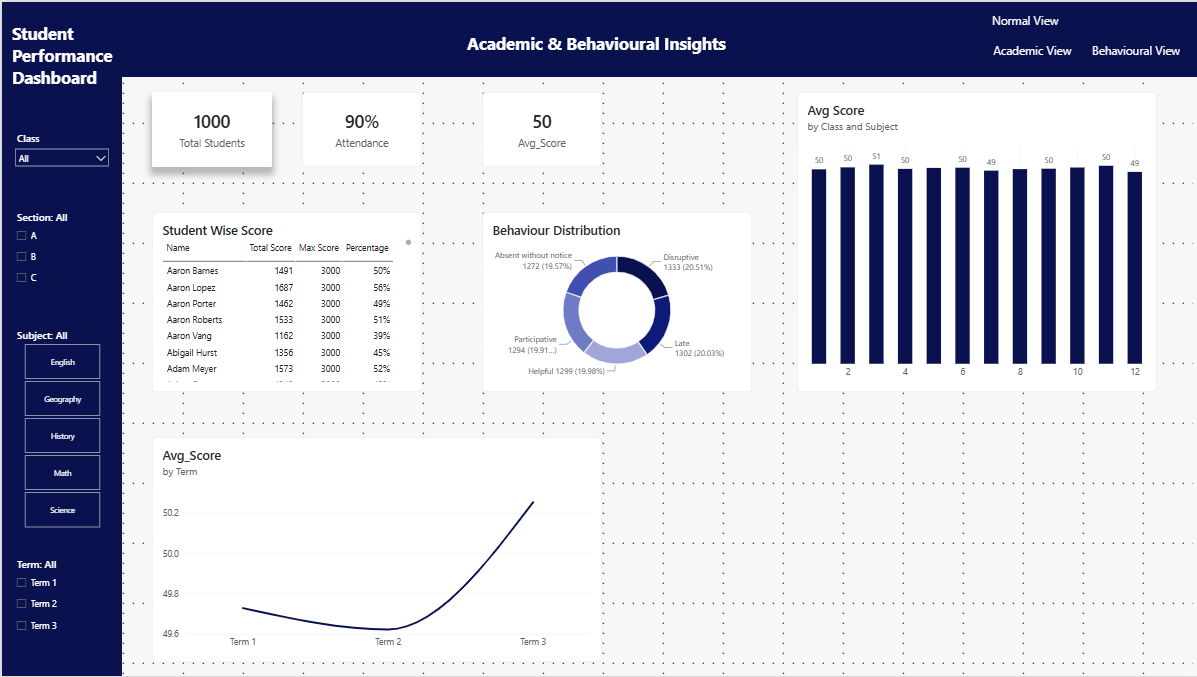

Layout of this report page (visuals, bound fields, positions):
{"tool":"powerbi","page":{"name":"Academic & Behavioural Insights","canvas":[1920,1080],"ordinal":0},"visuals":[{"type":"shape","box":[0,0,1920,120],"z":0,"group":"g3"},{"type":"shape","box":[0,0,192,1080],"z":0,"group":"g5"},{"type":"textbox","box":[1584,16,128,48],"z":0,"group":"g8"},{"type":"textbox","box":[1744,64,176,32],"z":0,"group":"g6"},{"type":"textbox","box":[1585.6,64.9,136.4,41.1],"z":0,"group":"g7"},{"type":"card","title":"K_TotalStudents","fields":{"Values":["_Measures.Total Students"]},"box":[240,144,192,120],"z":0,"group":"g1"},{"type":"group","id":"g1","title":"KPICards","box":[240,144,720,120],"z":0},{"type":"slicer","title":"S_Class","fields":{"Values":["Students - Students csv.Class"]},"box":[16,206,160,80],"z":0,"group":"g4"},{"type":"lineChart","fields":{"Category":["Scores - Scores csv.Term"],"Y":["_Measures.Avg_Score"]},"box":[240,696,720,360],"z":0,"group":"g2"},{"type":"actionButton","box":[1568,16,136.4,41.1],"z":1000,"group":"g8"},{"type":"textbox","title":"Title","box":[16,32,176,128],"z":1000,"group":"g5"},{"type":"textbox","title":"Subtitle","box":[744,48,432,72],"z":1000,"group":"g3"},{"type":"actionButton","box":[1578,58,136.4,41.1],"z":1000,"group":"g7"},{"type":"actionButton","box":[1760,64,144,24],"z":1000,"group":"g6"},{"type":"group","id":"g2","title":"Visuals","box":[240,144,1608,912],"z":1000},{"type":"card","title":"K_Attendance","fields":{"Values":["_Measures.Attendance"]},"box":[480,144,192,120],"z":1000,"group":"g1"},{"type":"slicer","title":"S_Section","fields":{"Values":["Students - Students csv.Section"]},"box":[16,332,160,144],"z":1000,"group":"g4"},{"type":"donutChart","title":"Behaviour Distribution","fields":{"Category":["Behavior - Behavior csv.BehaviorType"],"Y":["CountNonNull(Behavior - Behavior csv.StudentID)"]},"box":[768,336,432,288],"z":1000,"group":"g2"},{"type":"group","id":"g3","title":"Title Bar","box":[0,0,1920,120],"z":2000},{"type":"card","title":"K_Avgscore","fields":{"Values":["_Measures.Avg_Score"]},"box":[768,144,192,120],"z":2000,"group":"g1"},{"type":"clusteredColumnChart","title":"Avg Score","fields":{"Category":["Students - Students csv.Class","Scores - Scores csv.Subject"],"Y":["_Measures.Avg_Score"]},"box":[1272,144,576,480],"z":2000,"group":"g2"},{"type":"group","id":"g4","title":"Slicers","box":[16,206,160,826],"z":2000,"group":"g5"},{"type":"slicer","title":"S_Subject","fields":{"Values":["Scores - Scores csv.Subject"]},"box":[16,522,160,320],"z":2000,"group":"g4"},{"type":"group","id":"g5","title":"Sidebar","box":[0,0,192,1080],"z":3000},{"type":"tableEx","title":"Student Wise Score","fields":{"Values":["Students - Students csv.Name","Sum(Scores - Scores csv.Score)","Sum(Scores - Scores csv.MaxScore)","_Measures.%Score"]},"box":[240,336,432,288],"z":3000,"group":"g2"},{"type":"slicer","title":"S_Term","fields":{"Values":["Scores - Scores csv.Term"]},"box":[16,888,144,144],"z":3000,"group":"g4"},{"type":"group","id":"g6","title":"Behavioural View Button","box":[1744,64,176,32],"z":4000},{"type":"group","id":"g7","title":"Academic View Button","box":[1578,58,128,32],"z":5000},{"type":"group","id":"g8","title":"Normal View Button","box":[1568,16,144,48],"z":6000}]}

Visuals, with their boxes in screenshot pixels (x1, y1, x2, y2), scaled from the page's 1920x1080 canvas onto the 1197x677 screenshot:
shape: [0, 0, 1196, 75]
shape: [0, 0, 120, 676]
textbox: [988, 10, 1067, 40]
textbox: [1087, 40, 1196, 60]
textbox: [989, 41, 1074, 66]
"K_TotalStudents" card: [150, 90, 269, 165]
"KPICards" group: [150, 90, 598, 165]
"S_Class" slicer: [10, 129, 110, 179]
lineChart - Scores - Scores csv.Term x _Measures.Avg_Score: [150, 436, 598, 662]
actionButton: [978, 10, 1063, 36]
"Title" textbox: [10, 20, 120, 100]
"Subtitle" textbox: [464, 30, 733, 75]
actionButton: [984, 36, 1069, 62]
actionButton: [1097, 40, 1187, 55]
"Visuals" group: [150, 90, 1152, 662]
"K_Attendance" card: [299, 90, 419, 165]
"S_Section" slicer: [10, 208, 110, 298]
"Behaviour Distribution" donutChart: [479, 211, 748, 391]
"Title Bar" group: [0, 0, 1196, 75]
"K_Avgscore" card: [479, 90, 598, 165]
"Avg Score" clusteredColumnChart: [793, 90, 1152, 391]
"Slicers" group: [10, 129, 110, 647]
"S_Subject" slicer: [10, 327, 110, 528]
"Sidebar" group: [0, 0, 120, 676]
"Student Wise Score" tableEx: [150, 211, 419, 391]
"S_Term" slicer: [10, 557, 100, 647]
"Behavioural View Button" group: [1087, 40, 1196, 60]
"Academic View Button" group: [984, 36, 1064, 56]
"Normal View Button" group: [978, 10, 1067, 40]
